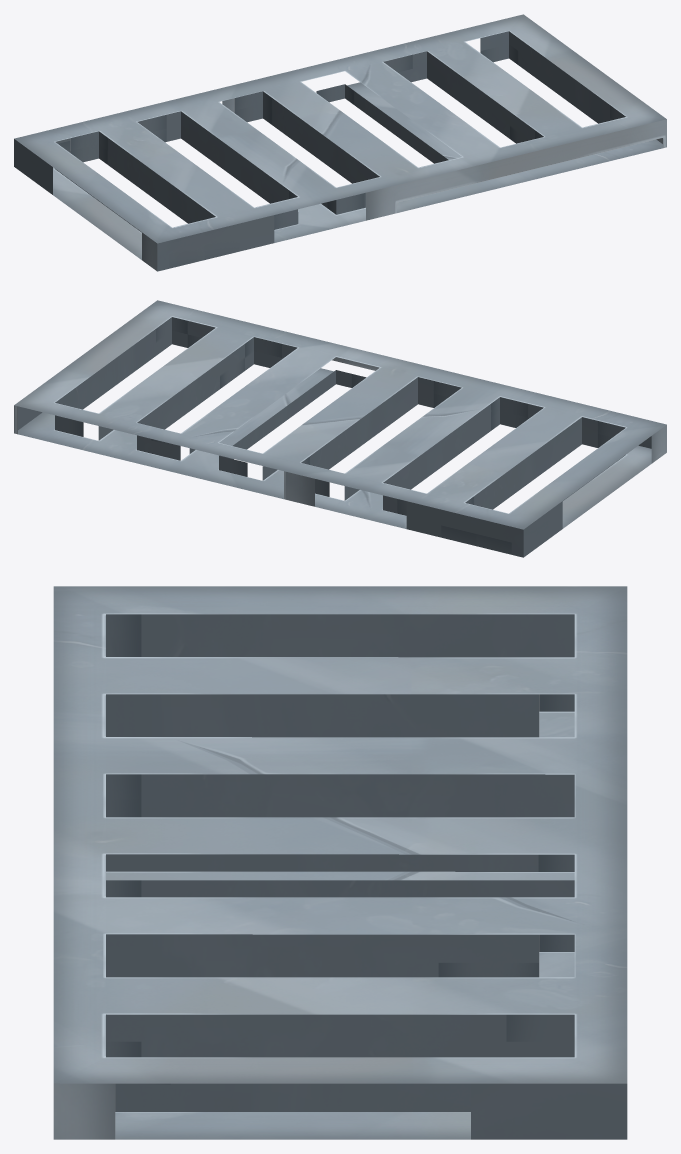
Rendered from odvod1.fbx.
3 views of the same model, one above another, from view 1: azimuth 30°, elevation 25°; view 2: azimuth 150°, elevation 25°; view 3: azimuth 270°, elevation 25° (orthographic). The views are drawn at different scales.
Parts seen in each view (by area): view 1: Cube; view 2: Cube; view 3: Cube.
Boxes of the visible parts, left/top/right/bottom form: Cube: left=14, top=14, right=666, bottom=271; Cube: left=14, top=300, right=666, bottom=557; Cube: left=53, top=586, right=627, bottom=1139.
Bounding box in the file's own units: 132 × 6.95 × 64.16.
1 material, 1 textured.
